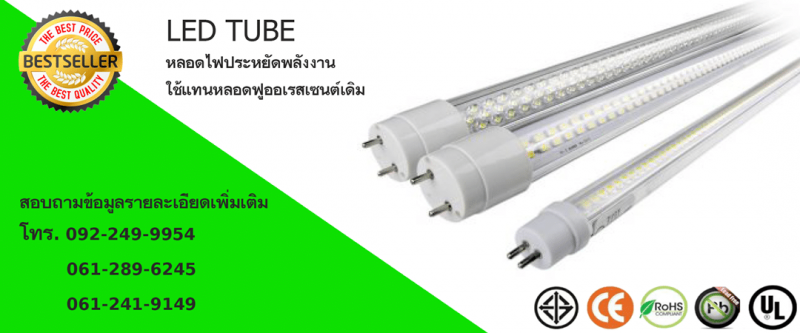Light_bulb: (491, 47, 800, 283)
